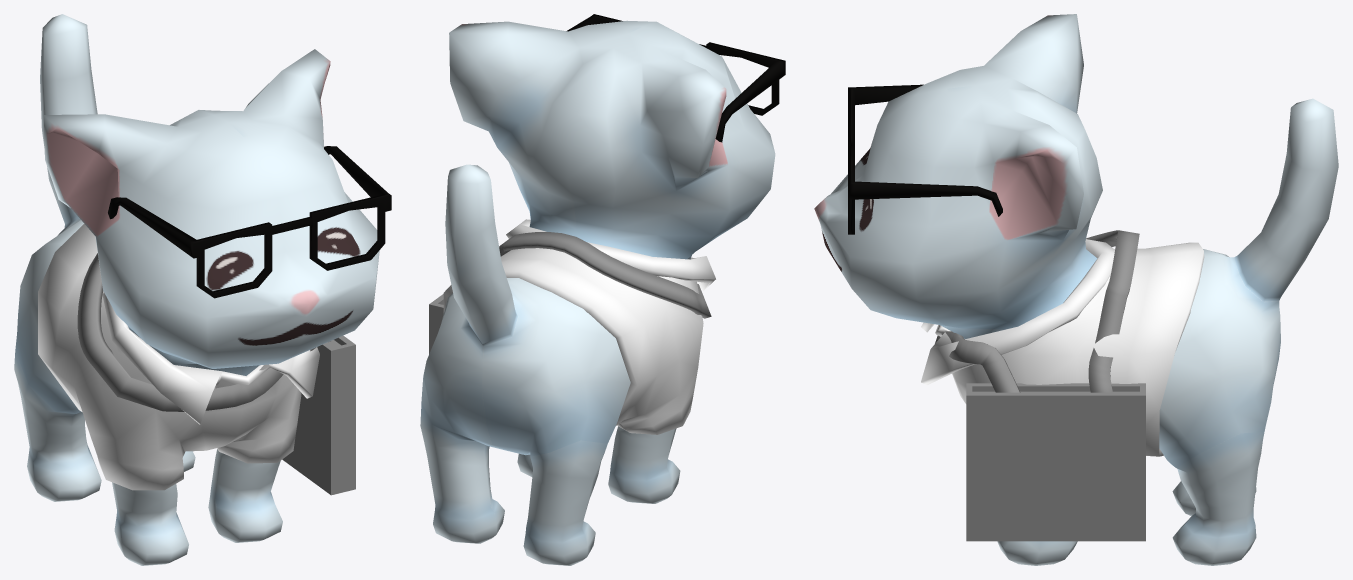
Rendered from Professor Cat05.fbx.
The picture shows the model from 3 angles, left to right: view 1: azimuth 30°, elevation 25°; view 2: azimuth 150°, elevation 25°; view 3: azimuth 270°, elevation 25°; orthographic projection. The views are drawn at different scales.
Visible parts, largest first — view 1: Cat_Base004, Professor_Cat_Shirt, Professor_Cat_Bag, Professor_Cat_Glasses; view 2: Cat_Base004, Professor_Cat_Shirt, Professor_Cat_Bag, Professor_Cat_Glasses; view 3: Cat_Base004, Professor_Cat_Bag, Professor_Cat_Shirt, Professor_Cat_Glasses.
Boxes of the visible parts, x1,y1,x2,y2 form: Cat_Base004: (14,14,379,565); Professor_Cat_Shirt: (38,224,319,490); Professor_Cat_Bag: (77,253,355,495); Professor_Cat_Glasses: (108,146,391,298); Cat_Base004: (420,20,775,565); Professor_Cat_Shirt: (443,219,715,434); Professor_Cat_Bag: (429,232,711,353); Professor_Cat_Glasses: (566,14,785,142); Cat_Base004: (814,14,1338,565); Professor_Cat_Bag: (935,230,1145,541); Professor_Cat_Shirt: (921,239,1204,456); Professor_Cat_Glasses: (848,84,1002,234).
Bounding box in the file's own units: 1.75 × 2.83 × 2.68.
Materials: 4 (1 with a texture image).
